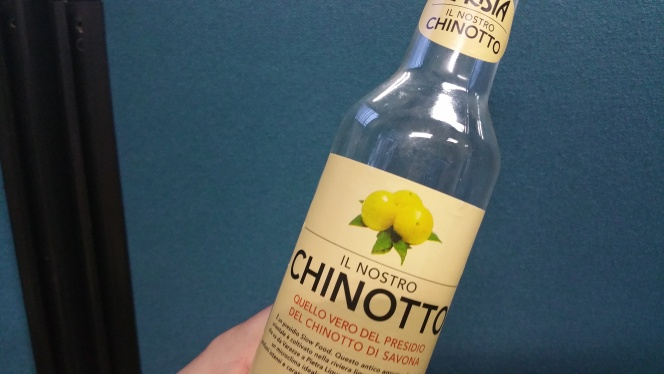bottle: (249, 1, 526, 372)
